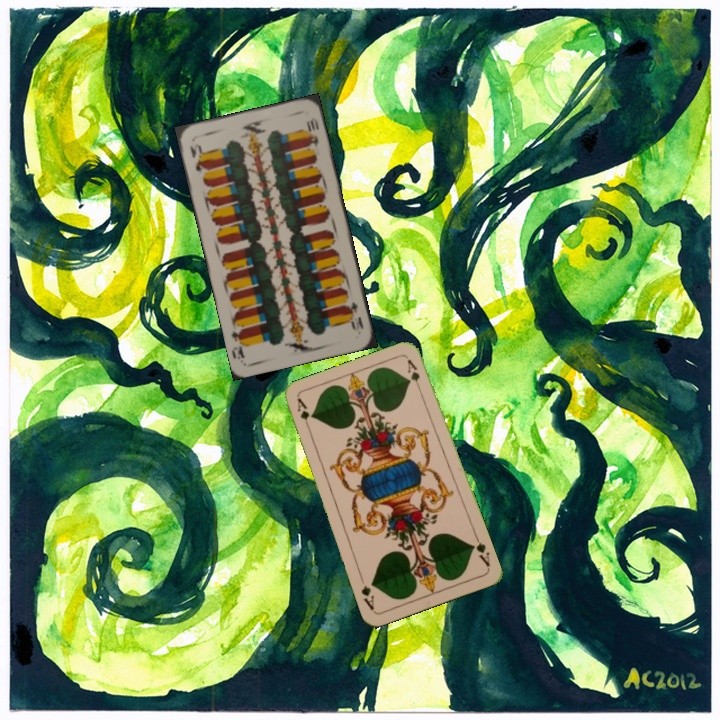E10: (343, 298, 366, 332), (186, 139, 207, 175)
GA: (467, 531, 493, 569), (293, 395, 314, 434)
